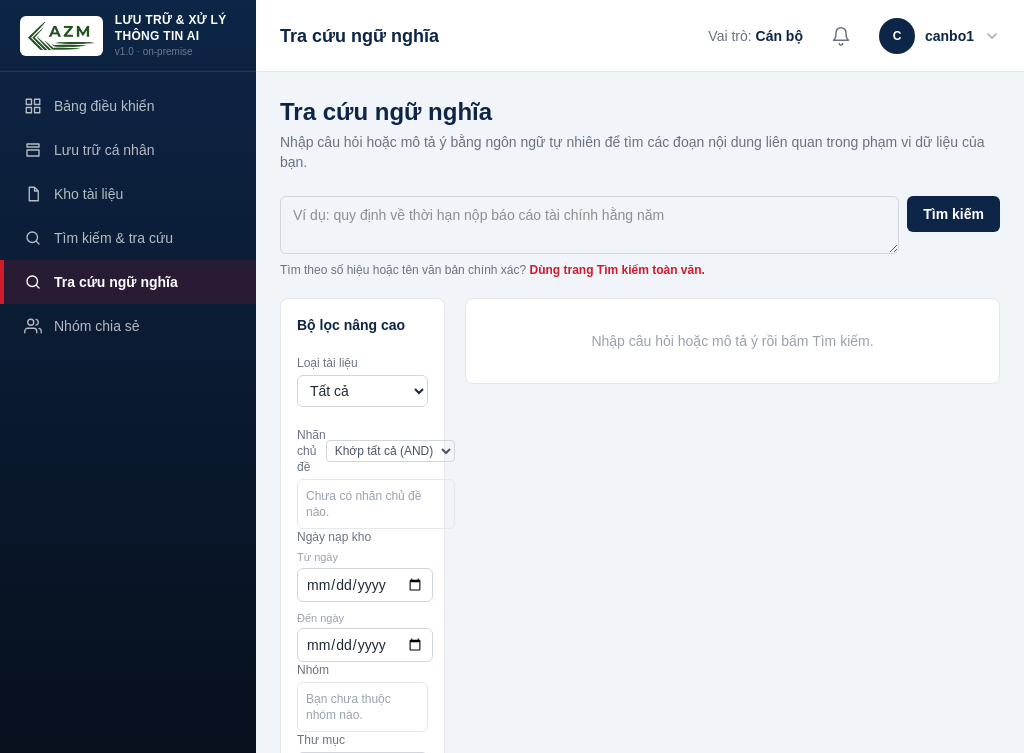
Test: SemanticSearchPage › shows the verbatim yellow auto-confirm badge, "Khớp từ khoá" and the pending-review note (AC-2.1/2.3/8)
Type "thời hạn nộp báo cáo" into the text box named "Câu hỏi hoặc mô tả ý".
click(590, 225); type("thời hạn nộp báo cáo")  # box [280,196,899,254]
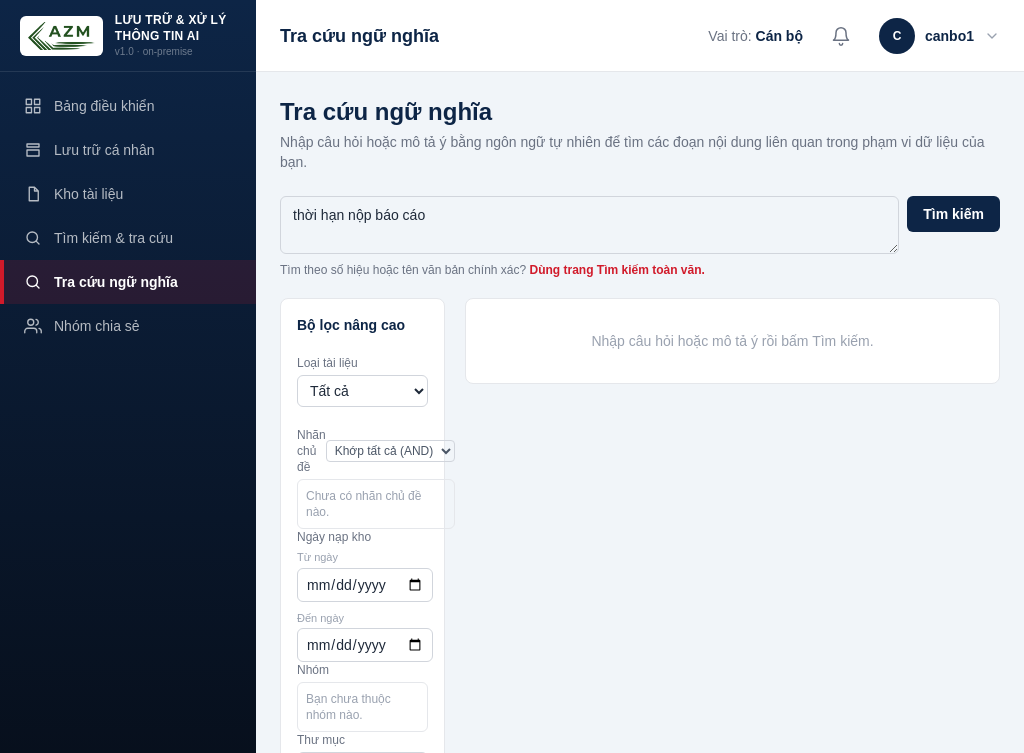
Click the button "Tìm kiếm".
click(954, 214)  # box [907,196,1000,232]
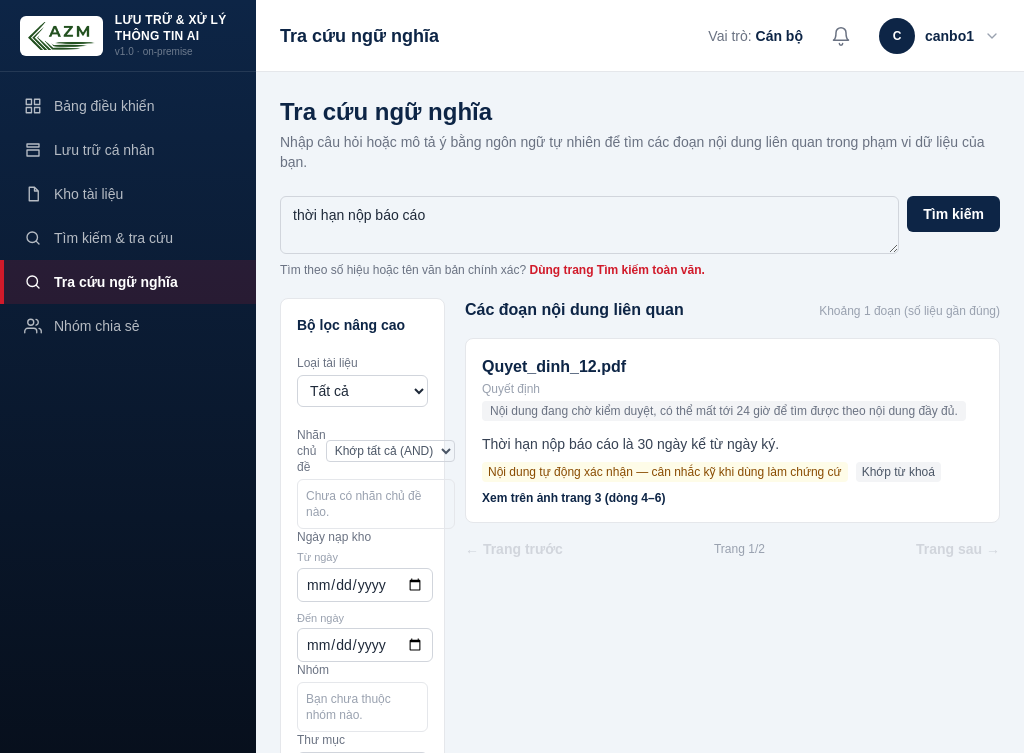
Now the text "Khớp từ khoá" is shown, box [856,462,941,482]
Now the text "Nội dung tự động xác nhận — cân nhắc kỹ khi dùng làm chứng cứ" is shown, box [482,462,848,482]
Now the text "Nội dung đang chờ kiểm duyệt, có thể mất tới 24 giờ để tìm được theo nội dung đầy đủ." is shown, box [490,404,958,418]
